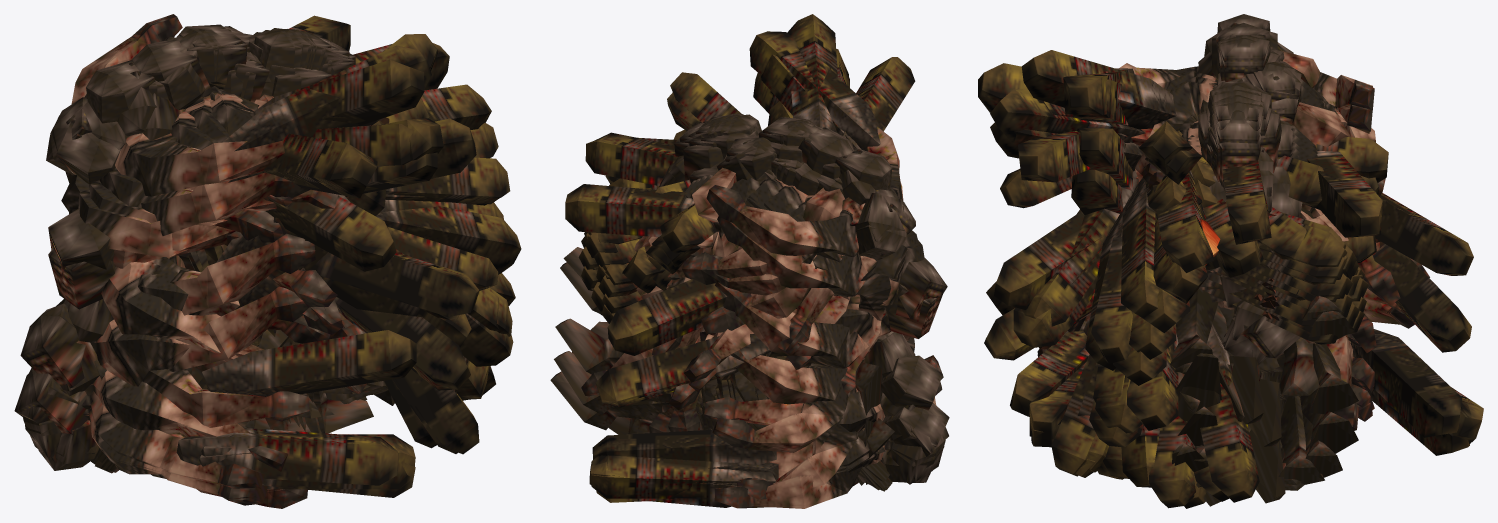
The model's file is human.fbx.
3 views of the same model, side by side, from view 1: azimuth 30°, elevation 25°; view 2: azimuth 150°, elevation 25°; view 3: azimuth 270°, elevation 25° (orthographic). The views are drawn at different scales.
Parts seen in each view (by area): view 1: human_000011.001, human_000015.001, human_000016.001, human_000025.001, human_000023.001, human_000026.001, human_000049.001, human_000031.001, human_000013.001, human_000014.001, human_000027.001, human_000033.001 (+39 smaller); view 2: human_000011.001, human_000025.001, human_000023.001, human_000024.001, human_000015.001, human_000013.001, human_000027.001, human_000021.001, human_000012.001, human_000022.001, human_000014.001, human_000033.001 (+44 smaller); view 3: human_000025.001, human_000033.001, human_000016.001, human_000013.001, human_000011.001, human_000024.001, human_000010.001, human_000023.001, human_000057.001, human_000012.001, human_000047.001, human_000019.001 (+59 smaller).
Part boxes in pixels (left/top/right/bottom): human_000011.001: left=71, top=14, right=431, bottom=196; human_000015.001: left=63, top=299, right=416, bottom=427; human_000016.001: left=61, top=340, right=398, bottom=485; human_000025.001: left=20, top=303, right=366, bottom=400; human_000023.001: left=48, top=208, right=249, bottom=361; human_000026.001: left=18, top=368, right=367, bottom=471; human_000049.001: left=221, top=244, right=479, bottom=316; human_000031.001: left=215, top=46, right=396, bottom=271; human_000013.001: left=167, top=120, right=383, bottom=315; human_000014.001: left=167, top=189, right=386, bottom=371; human_000027.001: left=14, top=374, right=372, bottom=488; human_000033.001: left=219, top=29, right=424, bottom=125; human_000011.001: left=563, top=31, right=902, bottom=290; human_000025.001: left=592, top=337, right=942, bottom=464; human_000023.001: left=607, top=258, right=947, bottom=355; human_000024.001: left=595, top=284, right=942, bottom=407; human_000015.001: left=550, top=332, right=915, bottom=452; human_000013.001: left=555, top=101, right=868, bottom=374; human_000027.001: left=591, top=355, right=948, bottom=498; human_000021.001: left=585, top=132, right=898, bottom=394; human_000012.001: left=560, top=54, right=903, bottom=314; human_000022.001: left=565, top=184, right=915, bottom=308; human_000014.001: left=554, top=331, right=893, bottom=414; human_000033.001: left=717, top=14, right=837, bottom=181; human_000025.001: left=1195, top=329, right=1461, bottom=449; human_000033.001: left=1021, top=50, right=1301, bottom=145; human_000016.001: left=1010, top=321, right=1353, bottom=484; human_000013.001: left=1077, top=128, right=1358, bottom=414; human_000011.001: left=1063, top=14, right=1374, bottom=372; human_000024.001: left=1218, top=244, right=1471, bottom=421; human_000010.001: left=1017, top=88, right=1385, bottom=396; human_000023.001: left=1178, top=192, right=1473, bottom=431; human_000057.001: left=1196, top=323, right=1259, bottom=502; human_000012.001: left=1073, top=79, right=1372, bottom=373; human_000047.001: left=1021, top=170, right=1137, bottom=326; human_000019.001: left=1121, top=34, right=1265, bottom=317.
Bounding box in the file's own units: 2.02 × 1.87 × 2.14.
Materials: 114 (114 with a texture image).
